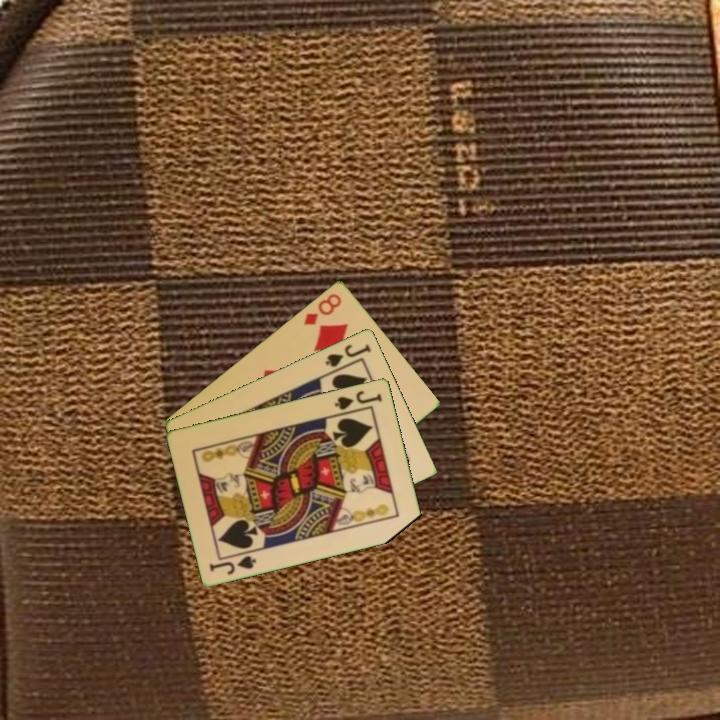8d: (300, 289, 344, 328)
Js: (322, 340, 374, 370), (331, 387, 385, 412), (206, 552, 260, 577)
